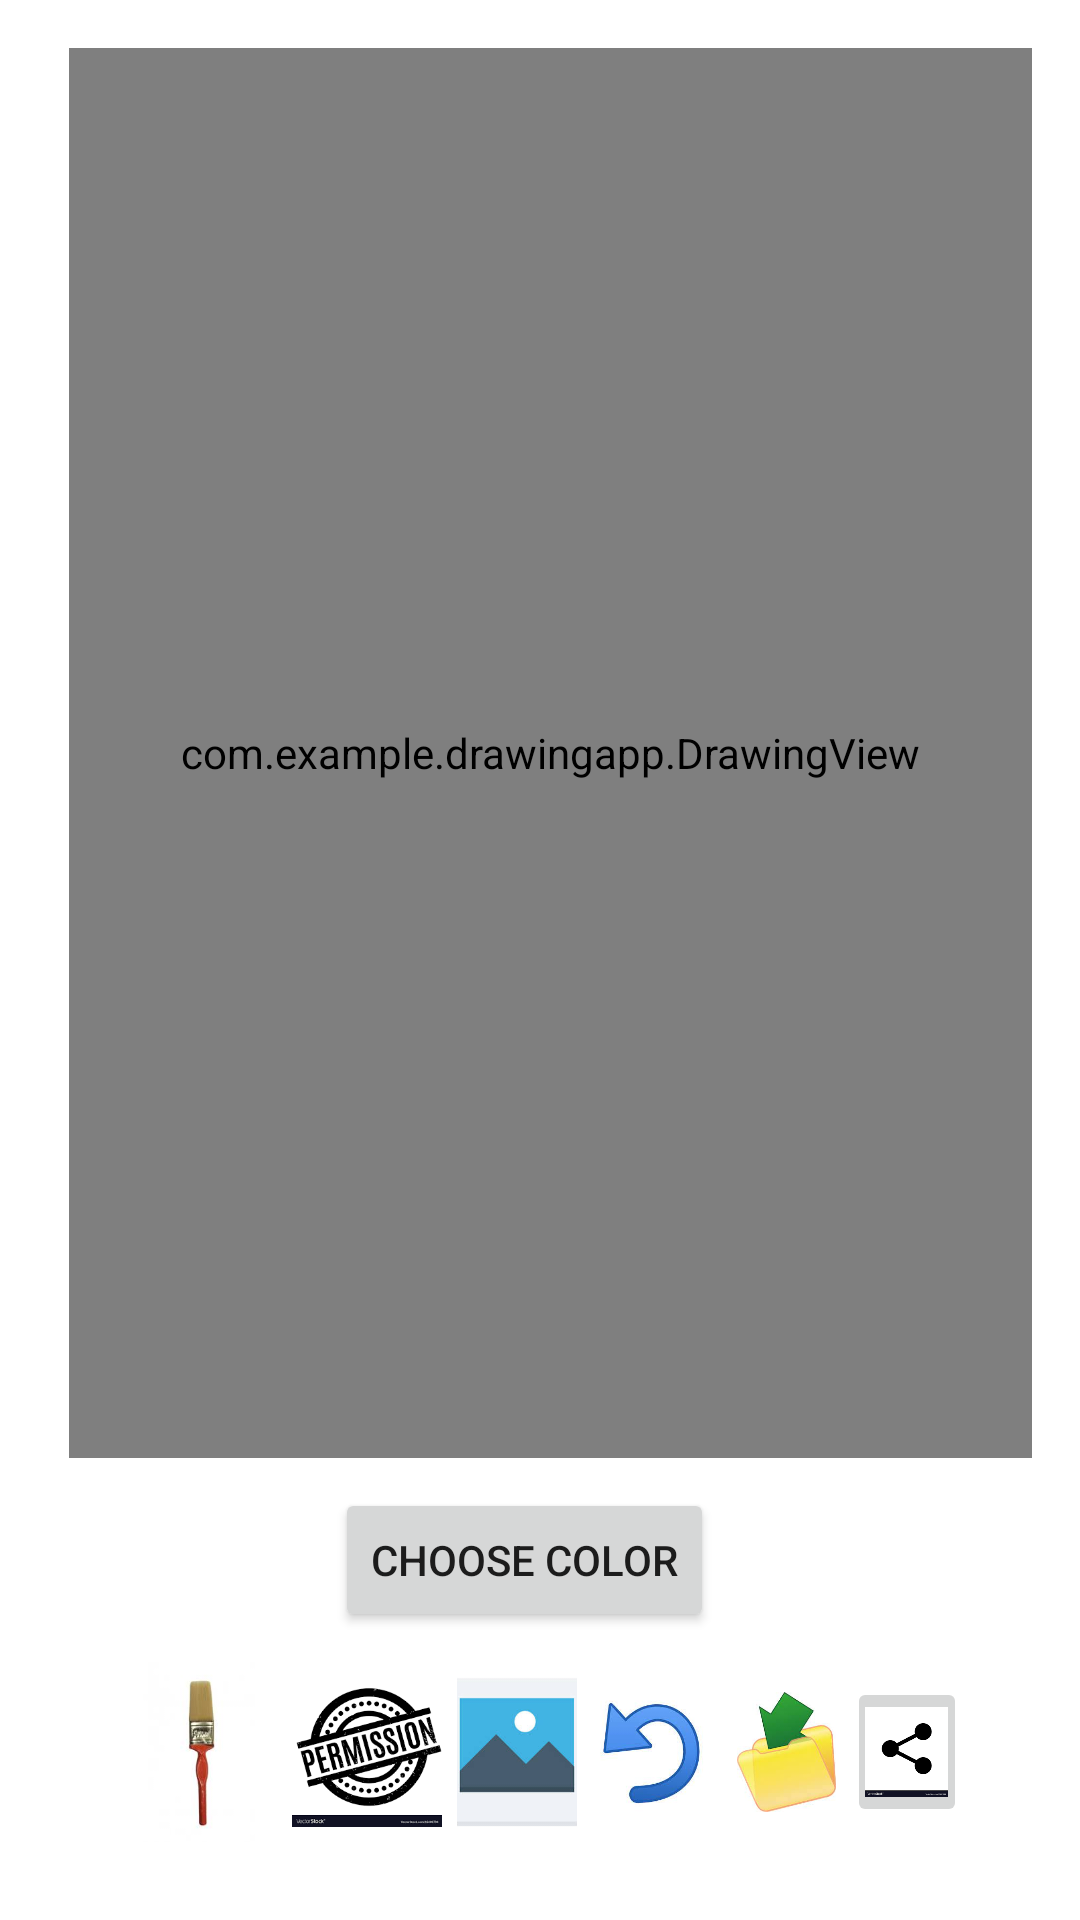

Point at icon controls on the screen. Image size 1080×1920, points as (x=x, y=y).
galary: (x=517, y=1762)
